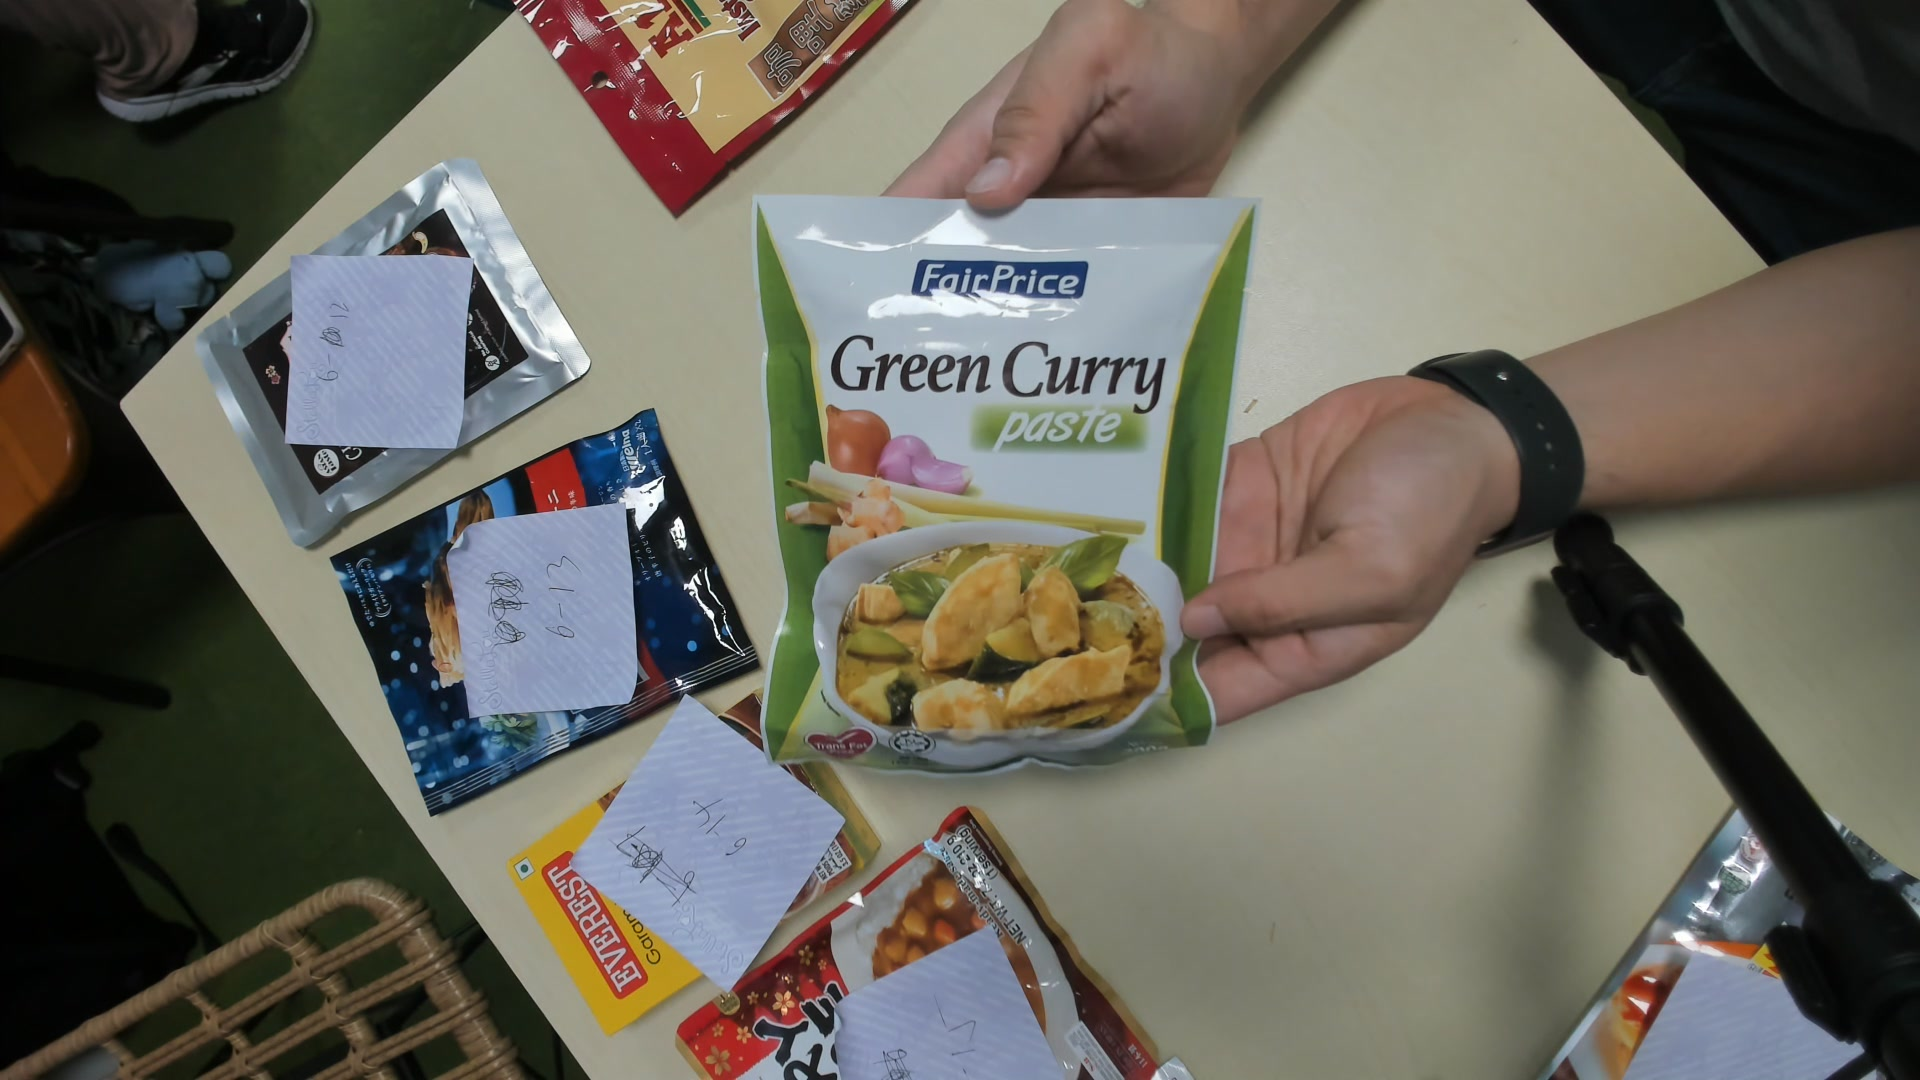CurryPastePowderSauce_200-299g_Halal_NonHealthy: (753, 193, 1218, 770)
